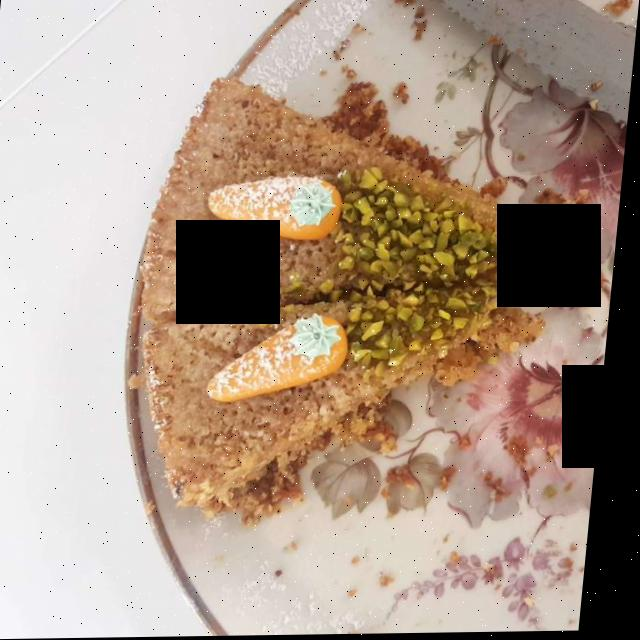carrot-cake: (151, 89, 567, 509)
